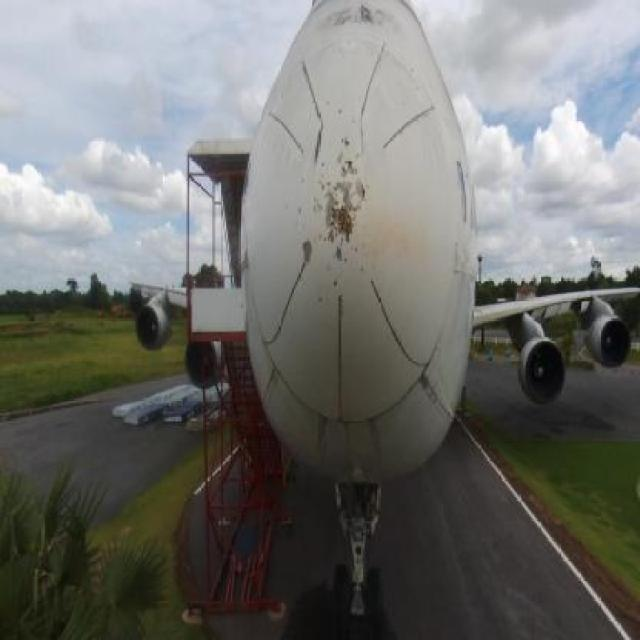Rust: (368, 215, 428, 273), (322, 7, 400, 38), (324, 195, 362, 242)
Scartch: (315, 156, 376, 250), (298, 235, 324, 268), (417, 364, 437, 394), (241, 235, 254, 280)
